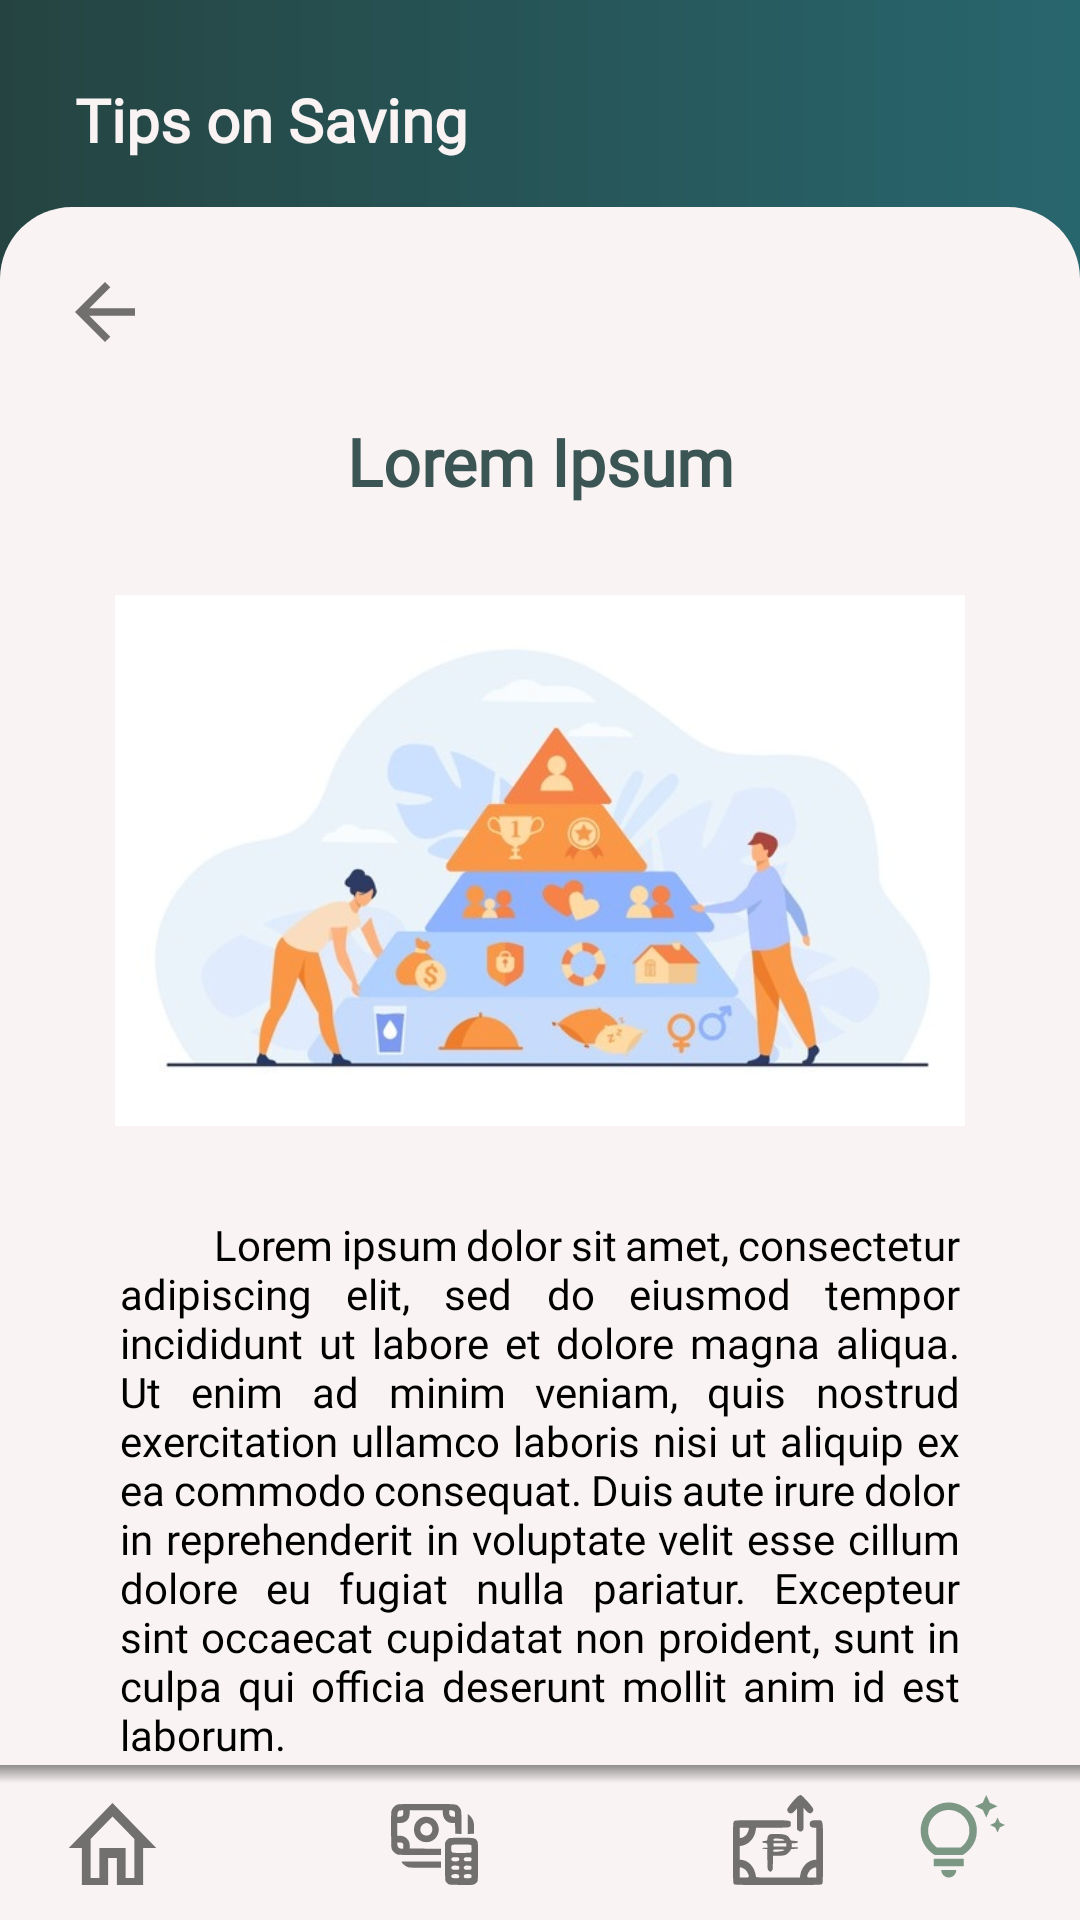

Named icons in this screenshot (1080x1920) and their bounding boxes, (x1, y1, x2, y2):
arrow back: (75, 282, 135, 342)
budget: (391, 1804, 478, 1885)
expense: (733, 1795, 823, 1885)
tips and updates: (920, 1795, 1005, 1878)
